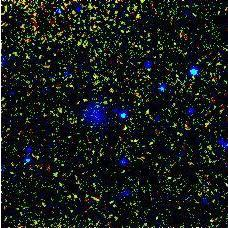star: (151, 159, 181, 189)
